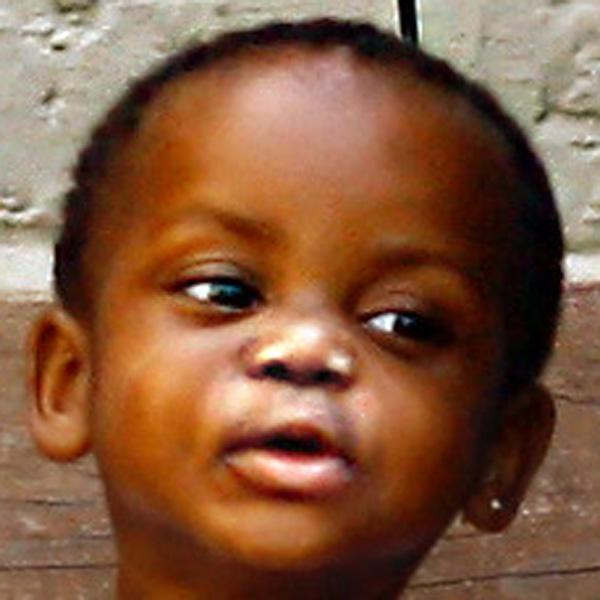Eyes: (348, 281, 460, 367), (155, 244, 270, 324)
